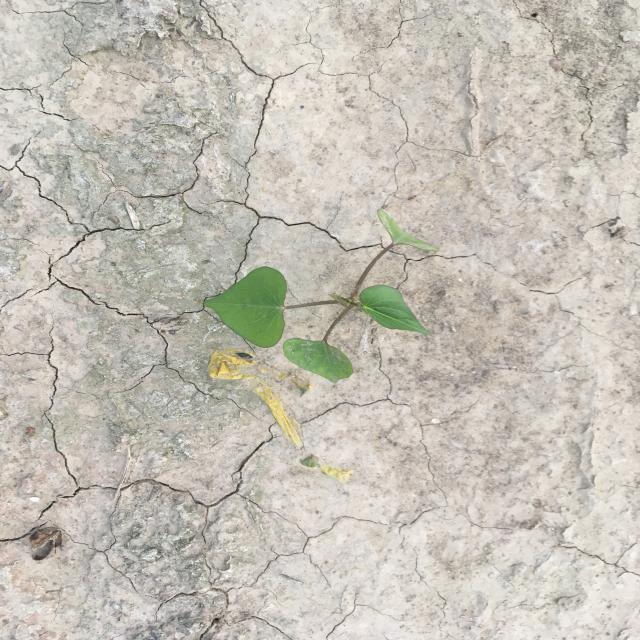MorningGlory: (200, 208, 443, 384)
